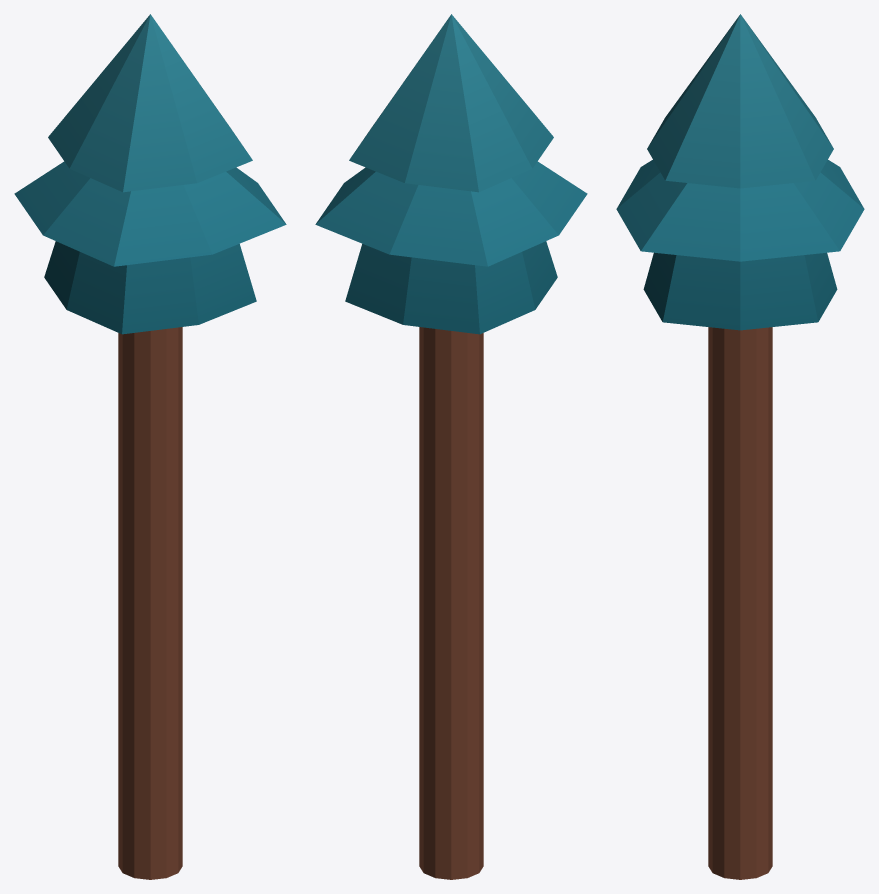
The model's file is Tree_20_gradient_blue_vc.fbx.
3 views of the same model, side by side, from view 1: azimuth 30°, elevation 25°; view 2: azimuth 150°, elevation 25°; view 3: azimuth 270°, elevation 25° (orthographic).
Parts seen in each view (by area): view 1: Tree_20_gradient_blue_vc; view 2: Tree_20_gradient_blue_vc; view 3: Tree_20_gradient_blue_vc.
Part boxes in pixels (x1,y1,x2,y2): Tree_20_gradient_blue_vc: (14, 14, 286, 879); Tree_20_gradient_blue_vc: (315, 14, 587, 879); Tree_20_gradient_blue_vc: (616, 14, 864, 879).
Size of the model in its own units: 85.54 by 324 by 85.54.
